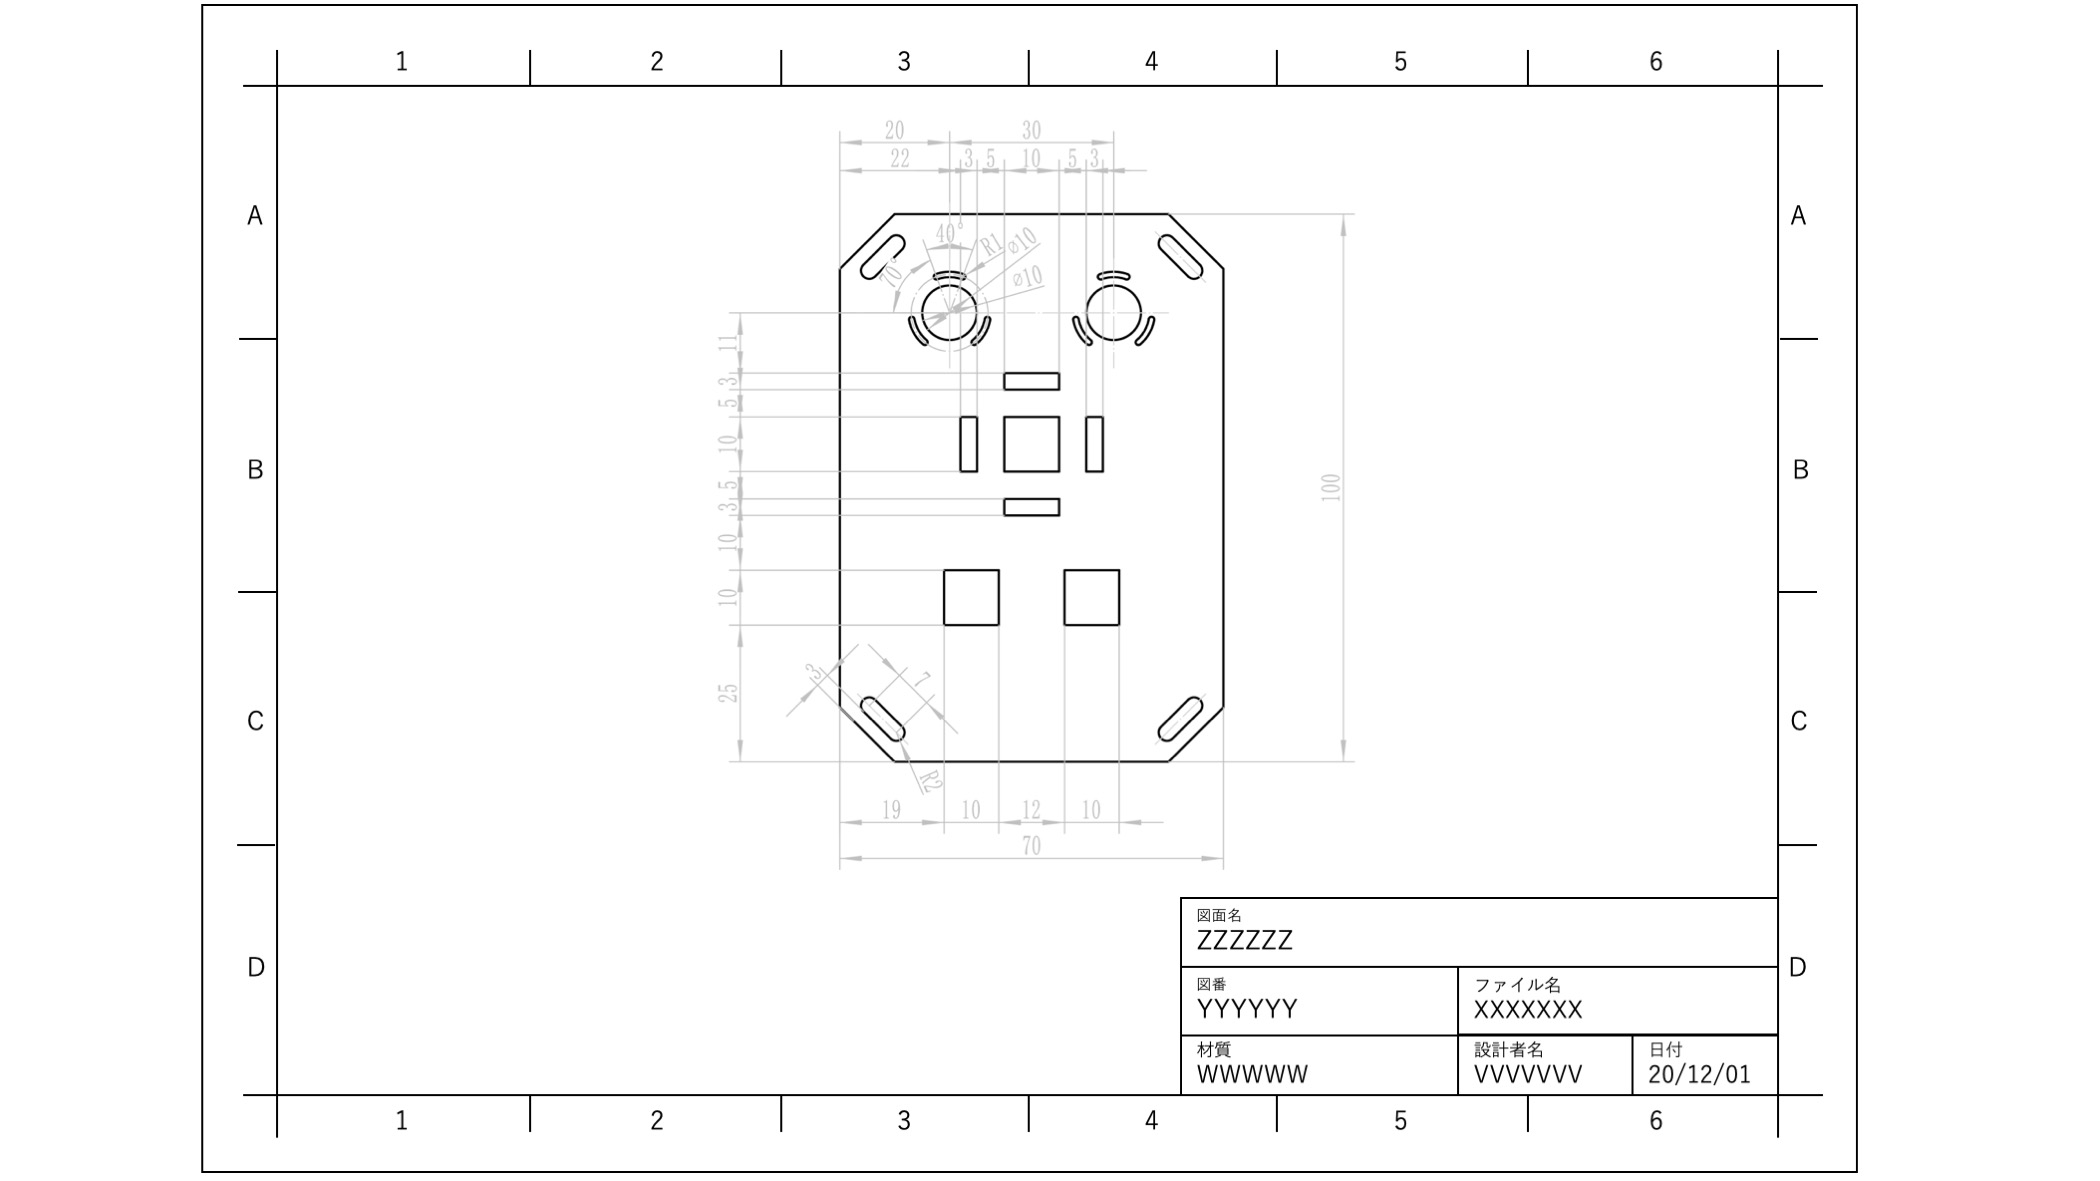circle: (920, 283, 984, 345), (1085, 283, 1147, 345)
rectangle: (940, 559, 1010, 632), (1059, 567, 1129, 633), (997, 412, 1069, 474), (997, 361, 1064, 397), (953, 404, 982, 480), (997, 492, 1064, 523), (1077, 410, 1111, 469)
round_rectangle: (854, 222, 914, 284), (851, 686, 912, 748), (1151, 222, 1209, 286), (1154, 686, 1204, 750), (899, 306, 936, 352), (1064, 311, 1099, 355), (1087, 257, 1135, 286), (929, 257, 975, 283), (969, 311, 997, 349), (1134, 311, 1157, 348)
